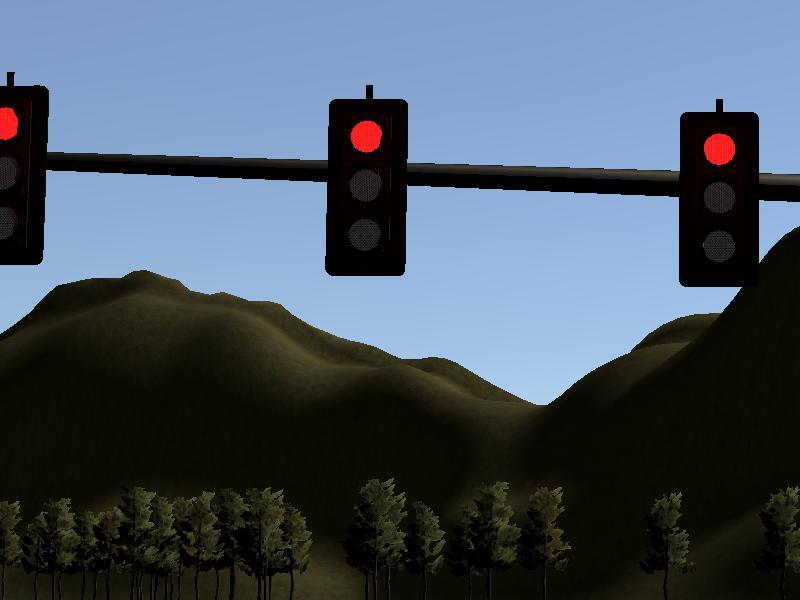Red: (677, 112, 759, 288), (326, 98, 406, 277), (1, 87, 47, 264)
